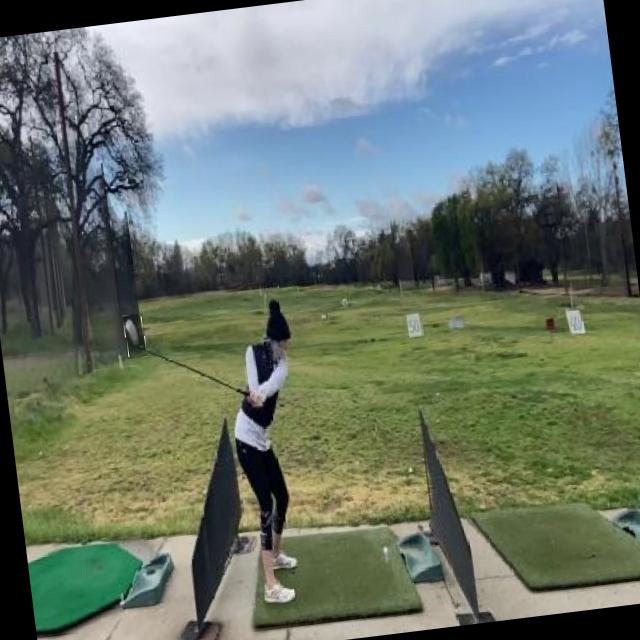club head: (122, 312, 147, 358)
